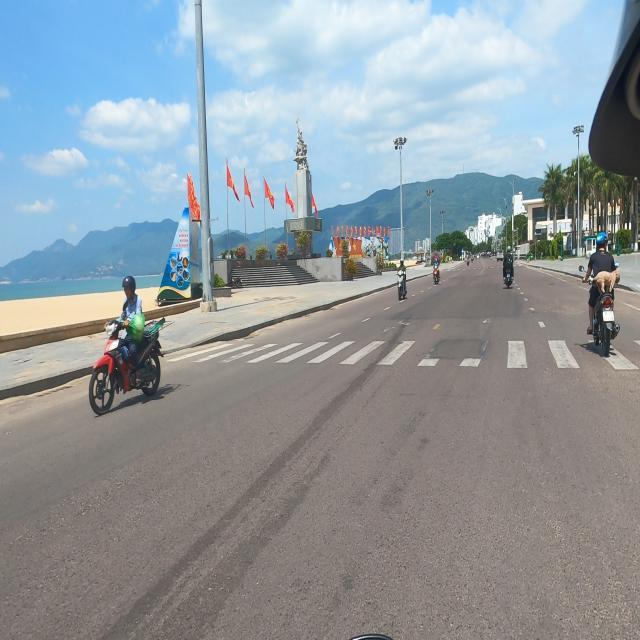walk-crossing: (167, 338, 640, 374)
